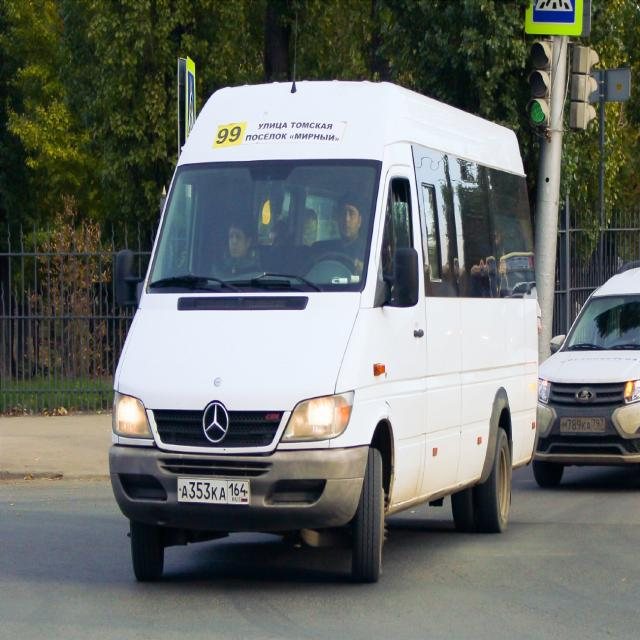number-of-bus: (217, 124, 243, 147)
